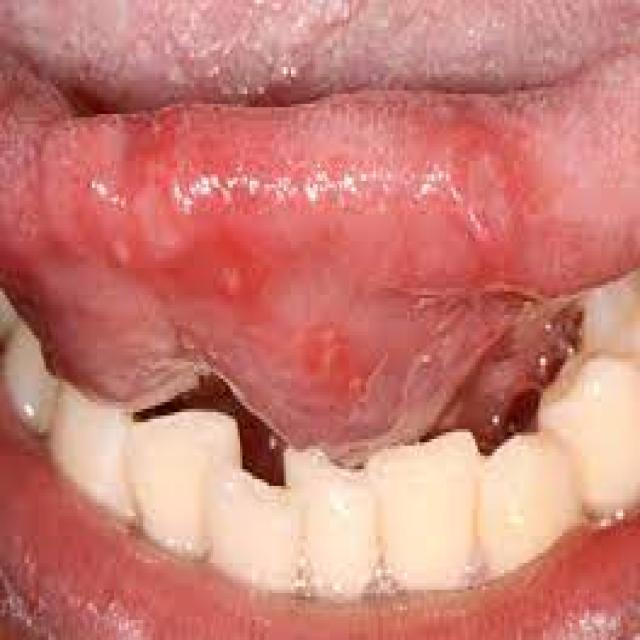processing_area: (0, 48, 638, 447)
ulcer-detection: (428, 97, 546, 282), (112, 111, 214, 306)
